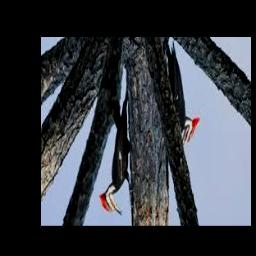Woodpecker: (100, 91, 133, 215), (167, 42, 200, 155)
